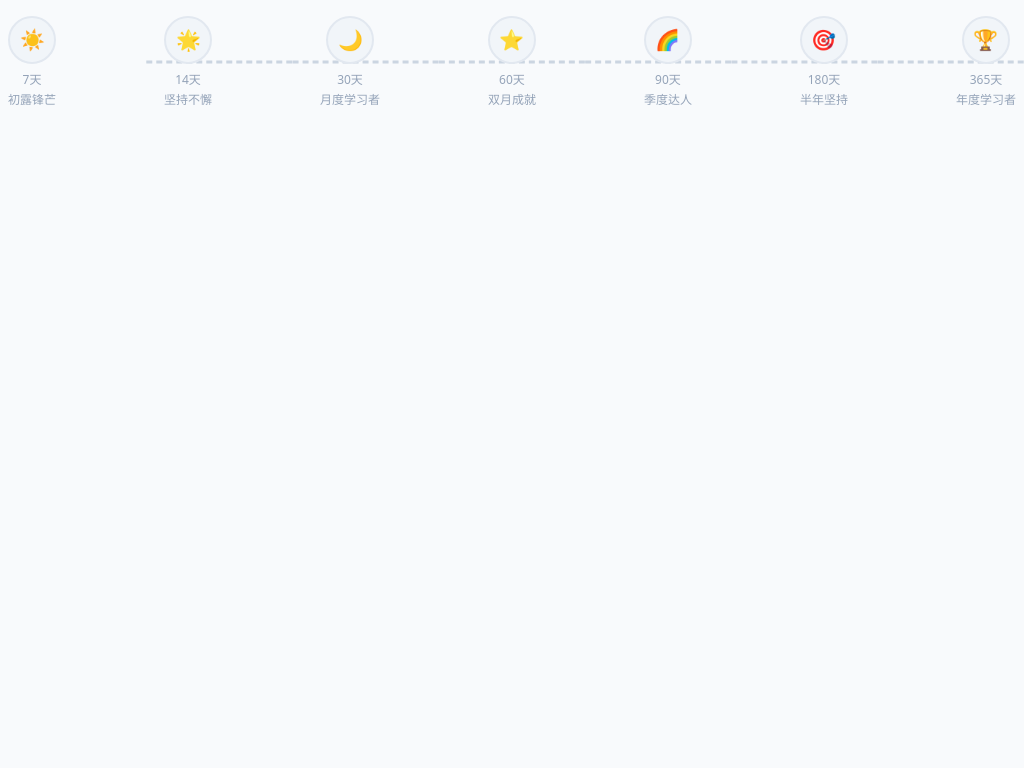
it: MilestonePath › Edge Cases › updates popup content when clicking different nodes
# Click first milestone
Click the button with test id "milestone-node-7-days" at (32, 40), box x1=8 y1=16 x2=56 y2=64
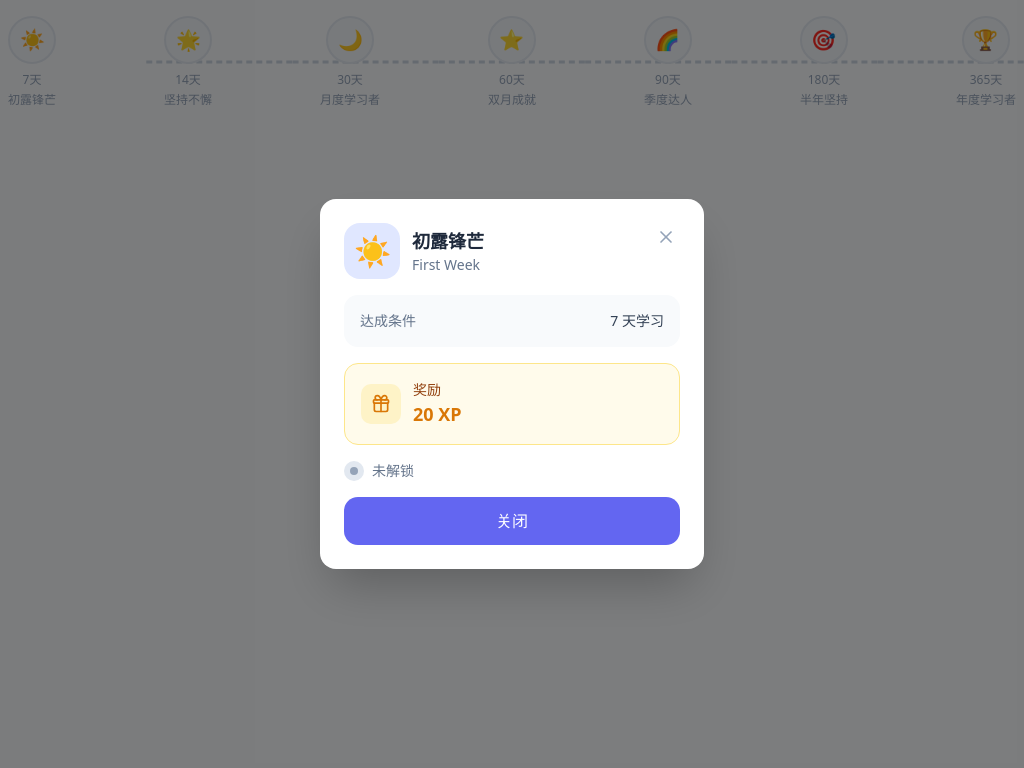
expect the heading "初露锋芒" is shown: met, box x1=412 y1=227 x2=484 y2=255
expect the text "20 XP" is shown: met, box x1=413 y1=400 x2=462 y2=428
# Close popup
Click the button with test id "milestone-popup-close" at (666, 237), box x1=652 y1=223 x2=680 y2=251
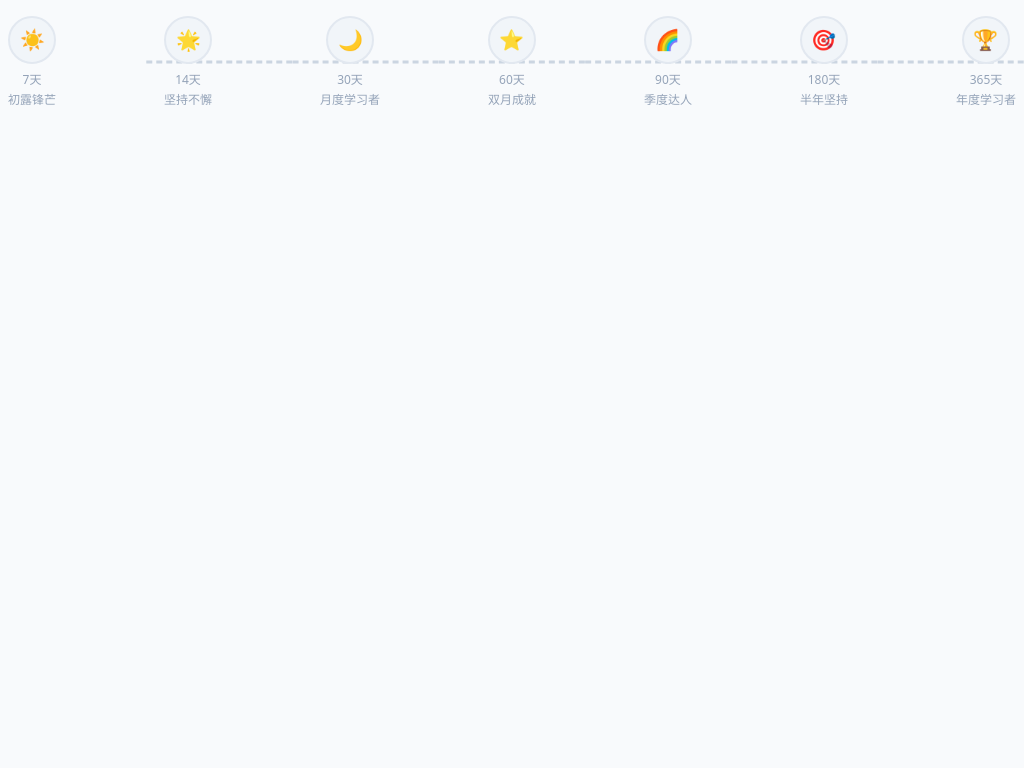
# Click second milestone
Click the button with test id "milestone-node-14-days" at (188, 40), box x1=164 y1=16 x2=212 y2=64
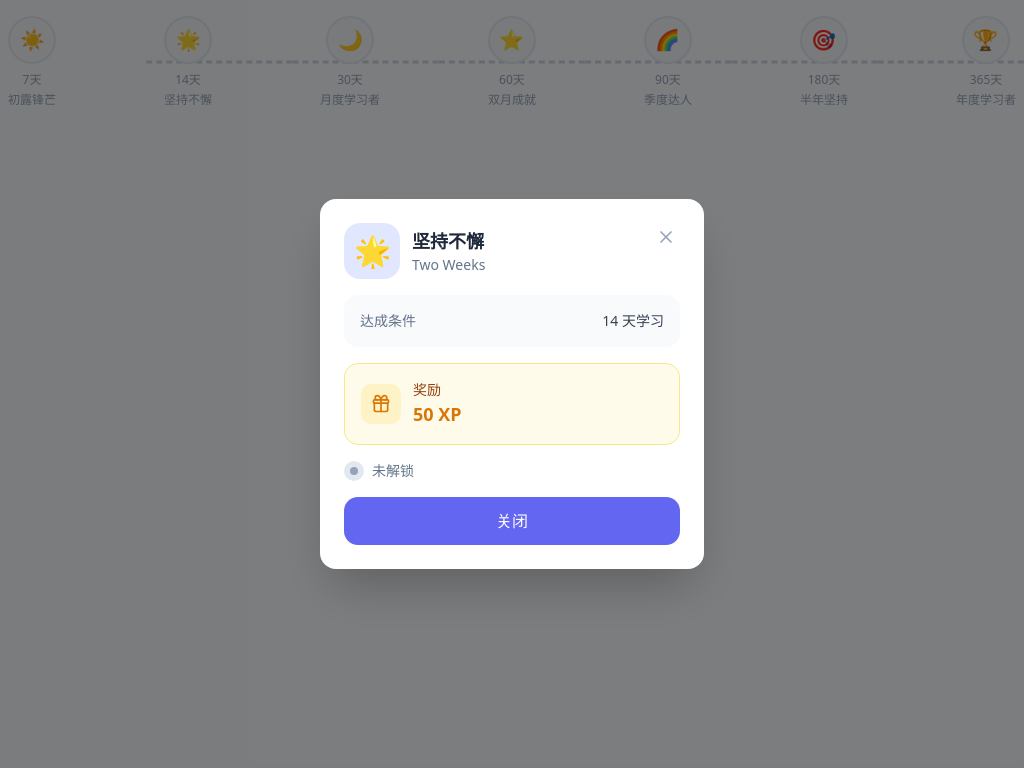
expect the heading "坚持不懈" is shown: met, box x1=412 y1=227 x2=485 y2=255
expect the text "50 XP" is shown: met, box x1=413 y1=400 x2=462 y2=428
